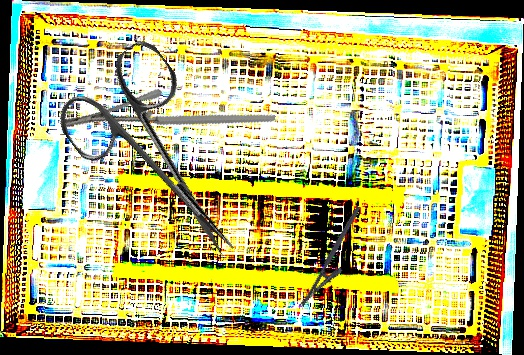Iris Scissors: (46, 34, 281, 289)
Needle Holder: (61, 53, 276, 190), (298, 205, 375, 316)
